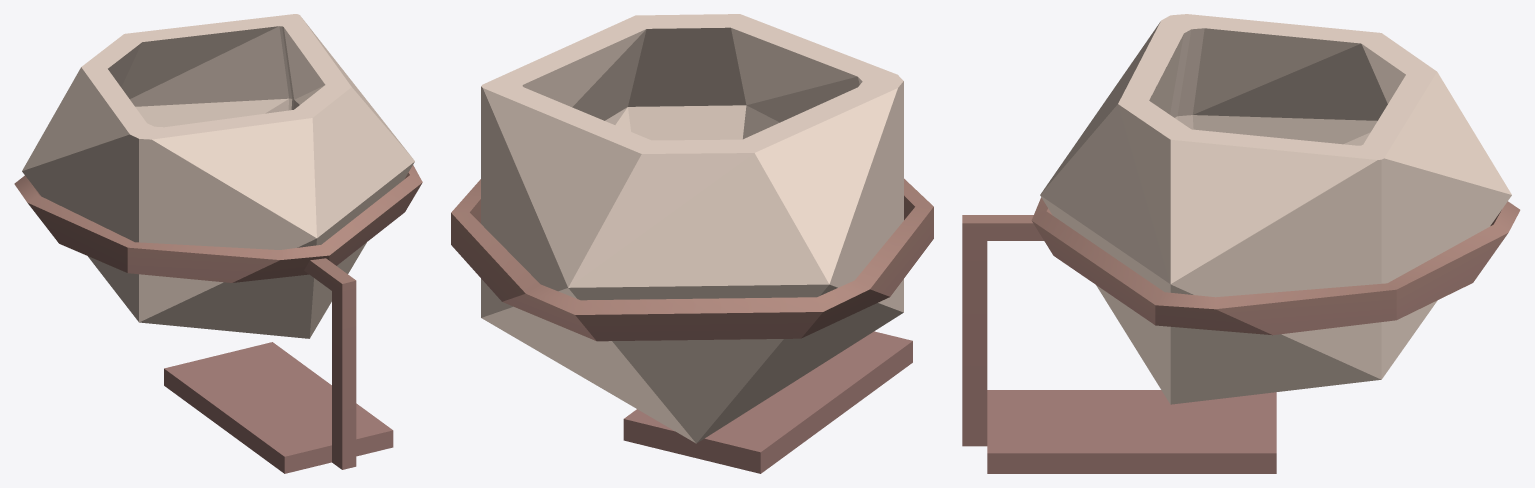
File: PlantPot_20.fbx
The picture shows the model from 3 angles, left to right: view 1: azimuth 30°, elevation 25°; view 2: azimuth 150°, elevation 25°; view 3: azimuth 270°, elevation 25°; orthographic projection. The views are drawn at different scales.
Parts seen in each view (by area): view 1: PlantPot_20; view 2: PlantPot_20; view 3: PlantPot_20.
Part boxes in pixels (x1,y1,x2,y2): PlantPot_20: (14, 14, 422, 473); PlantPot_20: (451, 14, 933, 473); PlantPot_20: (962, 14, 1520, 473).
Size of the model in its own units: 33.02 by 28.13 by 40.12.
